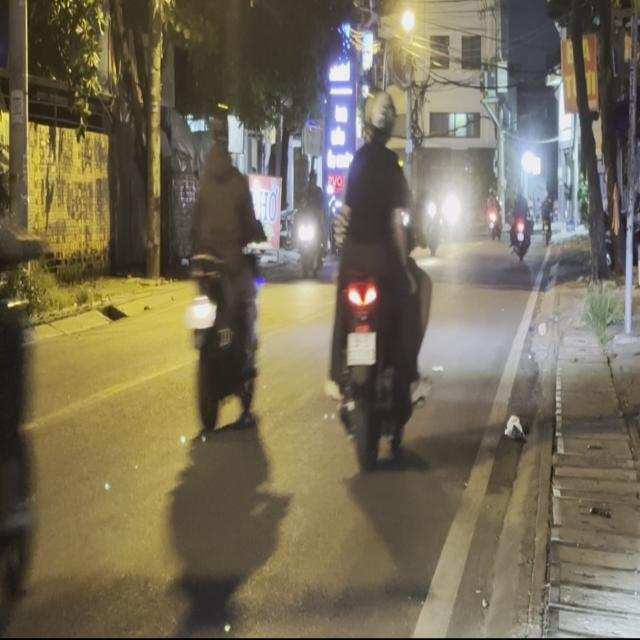helmet: (361, 88, 395, 143), (204, 106, 234, 164)
licenseplate: (322, 84, 432, 468), (0, 5, 50, 633), (179, 104, 269, 438)
nohelmet: (346, 331, 375, 363), (185, 301, 217, 328)
